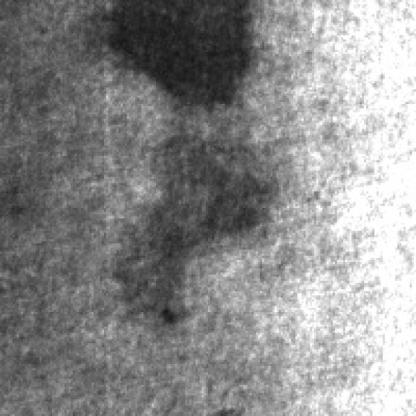patches: (124, 127, 252, 312), (104, 0, 256, 106)
